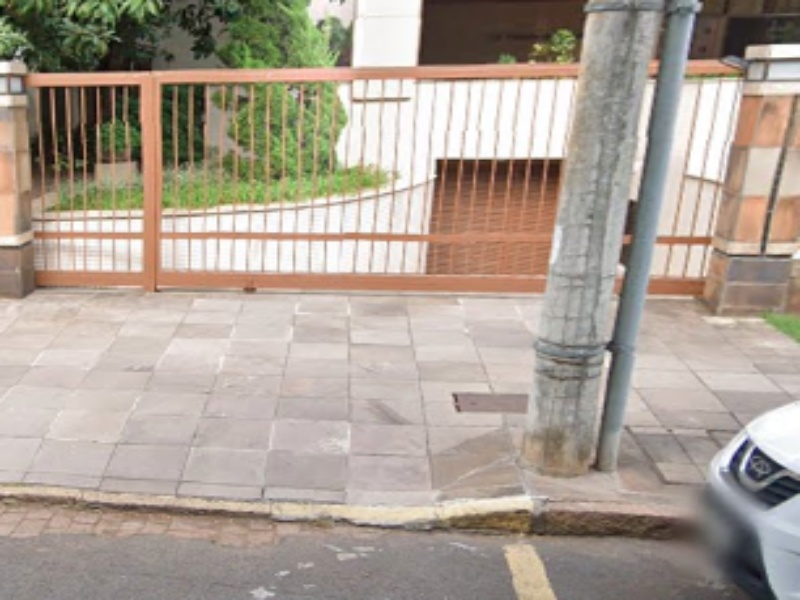g79: (1, 428, 413, 569)
